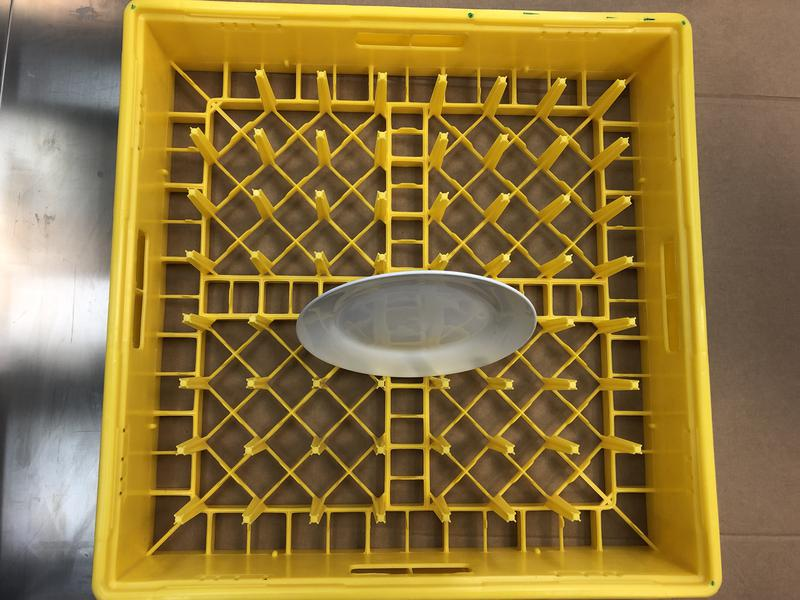Dish: (294, 269, 537, 377)
